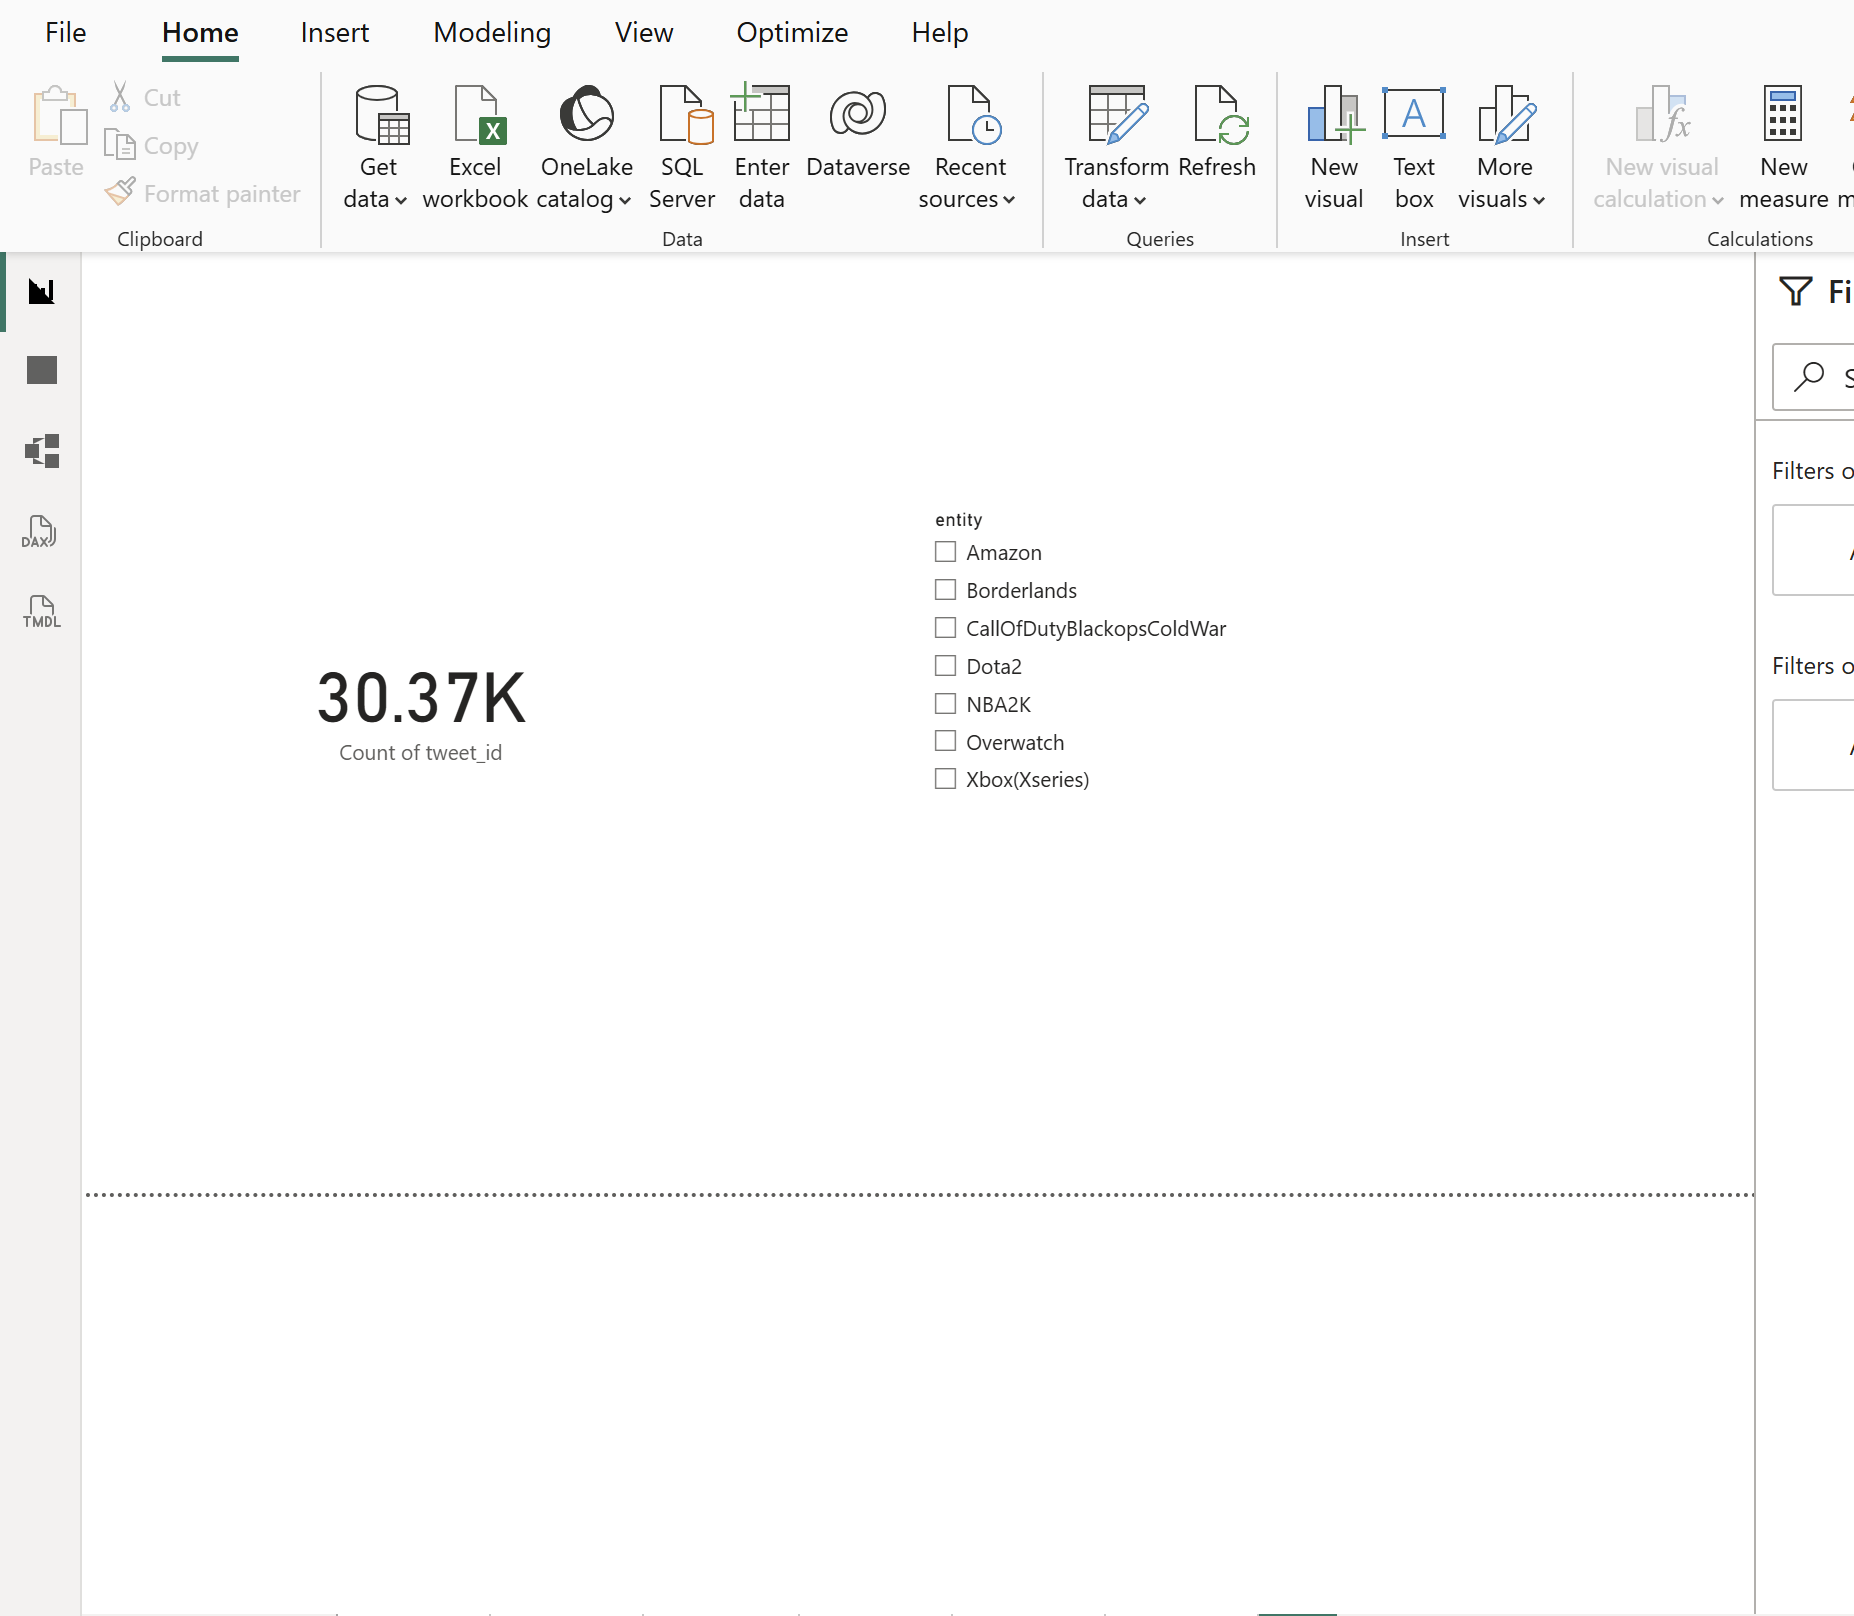

Layout of this report page (visuals, bound fields, positions):
{"tool":"powerbi","page":{"name":"Page 4","canvas":[1280,720],"ordinal":2},"visuals":[{"type":"card","fields":{"Values":["CountNonNull(twitter_sentiment tweets.tweet_id)"]},"box":[36.7,148.5,445.6,392],"z":0},{"type":"slicer","fields":{"Values":["twitter_sentiment tweets.entity"]},"box":[640,191.4,540.5,336.8],"z":1000}]}

Visuals, with their boxes on the page's 1280x720 design canvas (x1, y1, x2, y2). These are canvas units, not pixel positions in the 1854x1616 screenshot, which may show the page scaled, cropped or inside an application window:
card - CountNonNull(twitter_sentiment tweets.tweet_id): left=37, top=148, right=482, bottom=540
slicer - twitter_sentiment tweets.entity: left=640, top=191, right=1180, bottom=528
